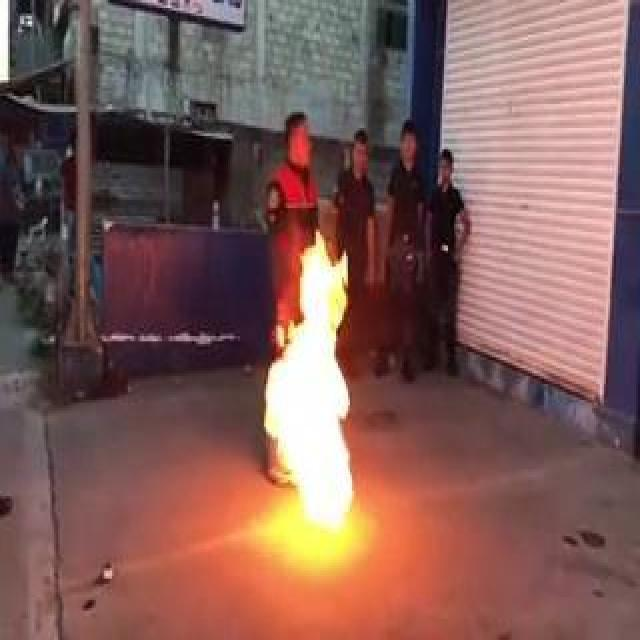Smoke: (264, 238, 354, 532)
